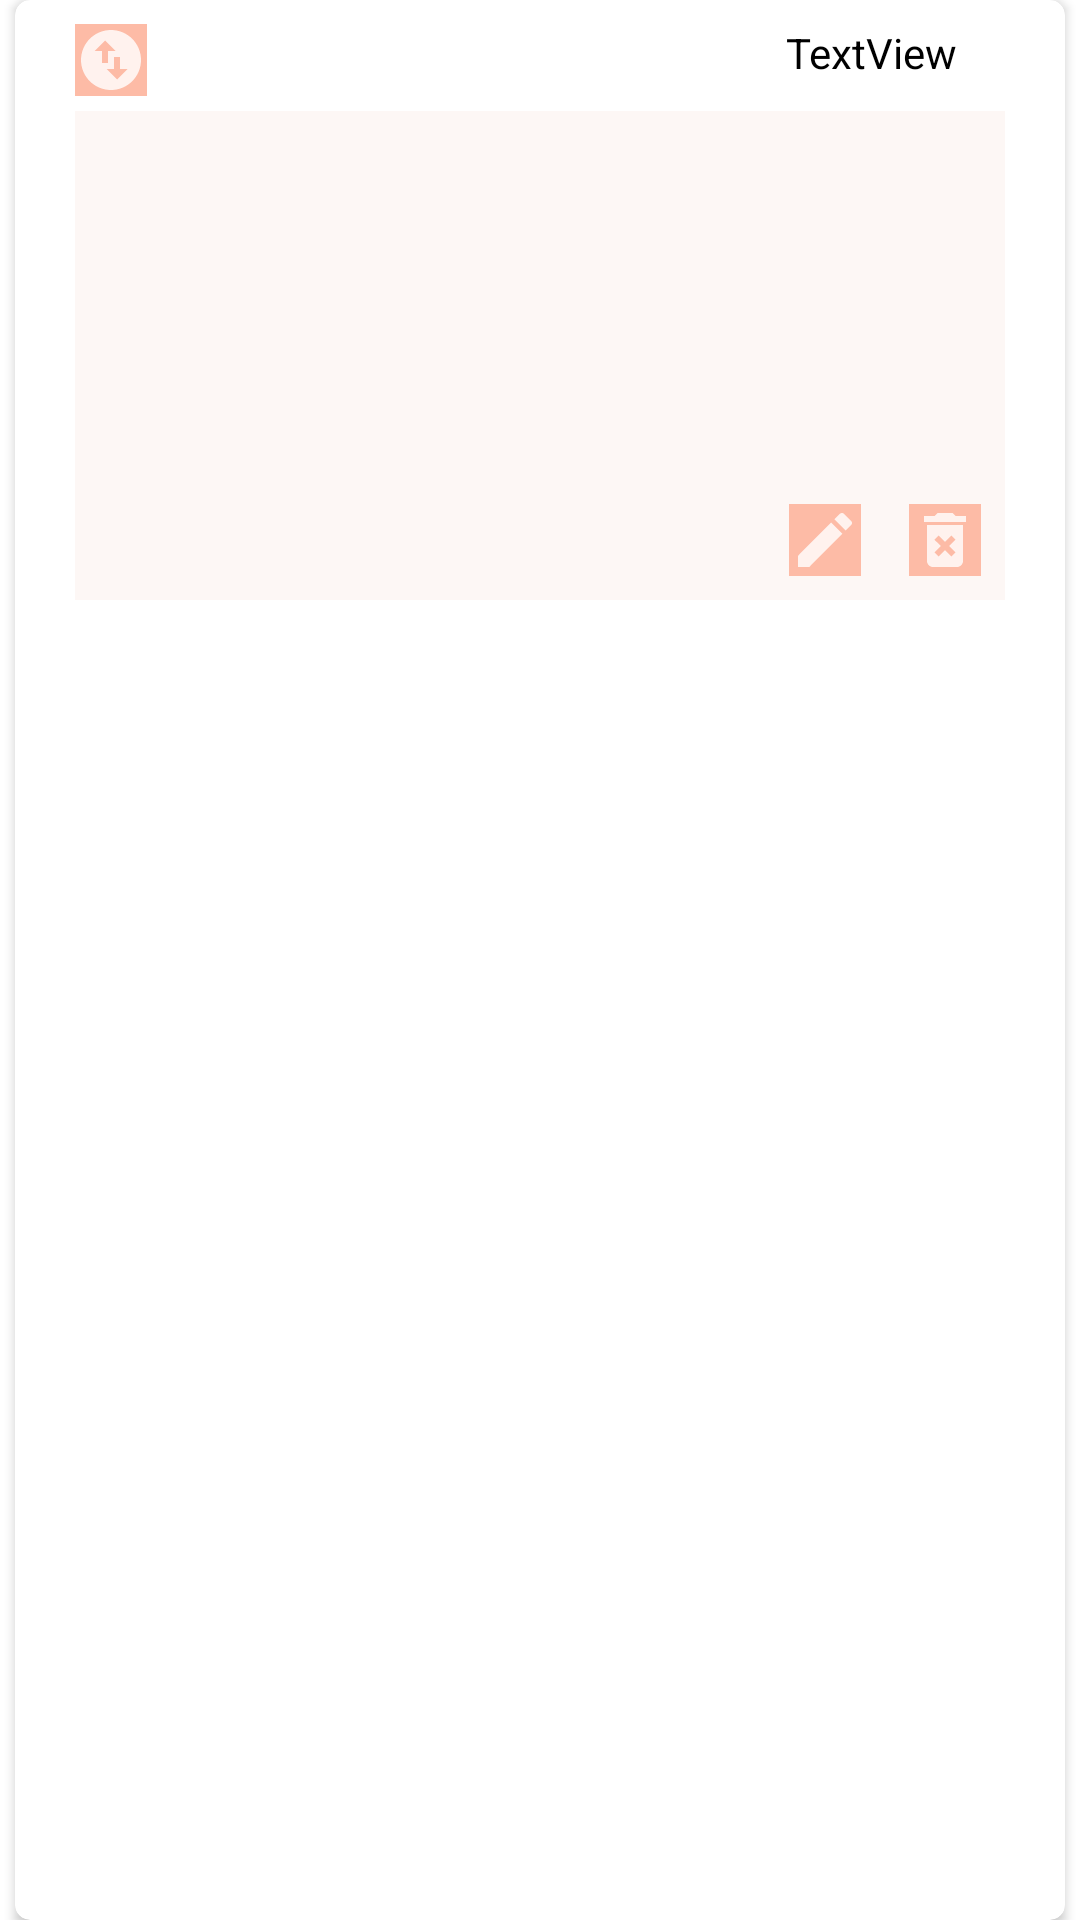

Screen size 1080x1920. Icon name, then its center in pixels as (x,y):
delete: (945,540)
drag: (111,60)
edit: (825,540)
